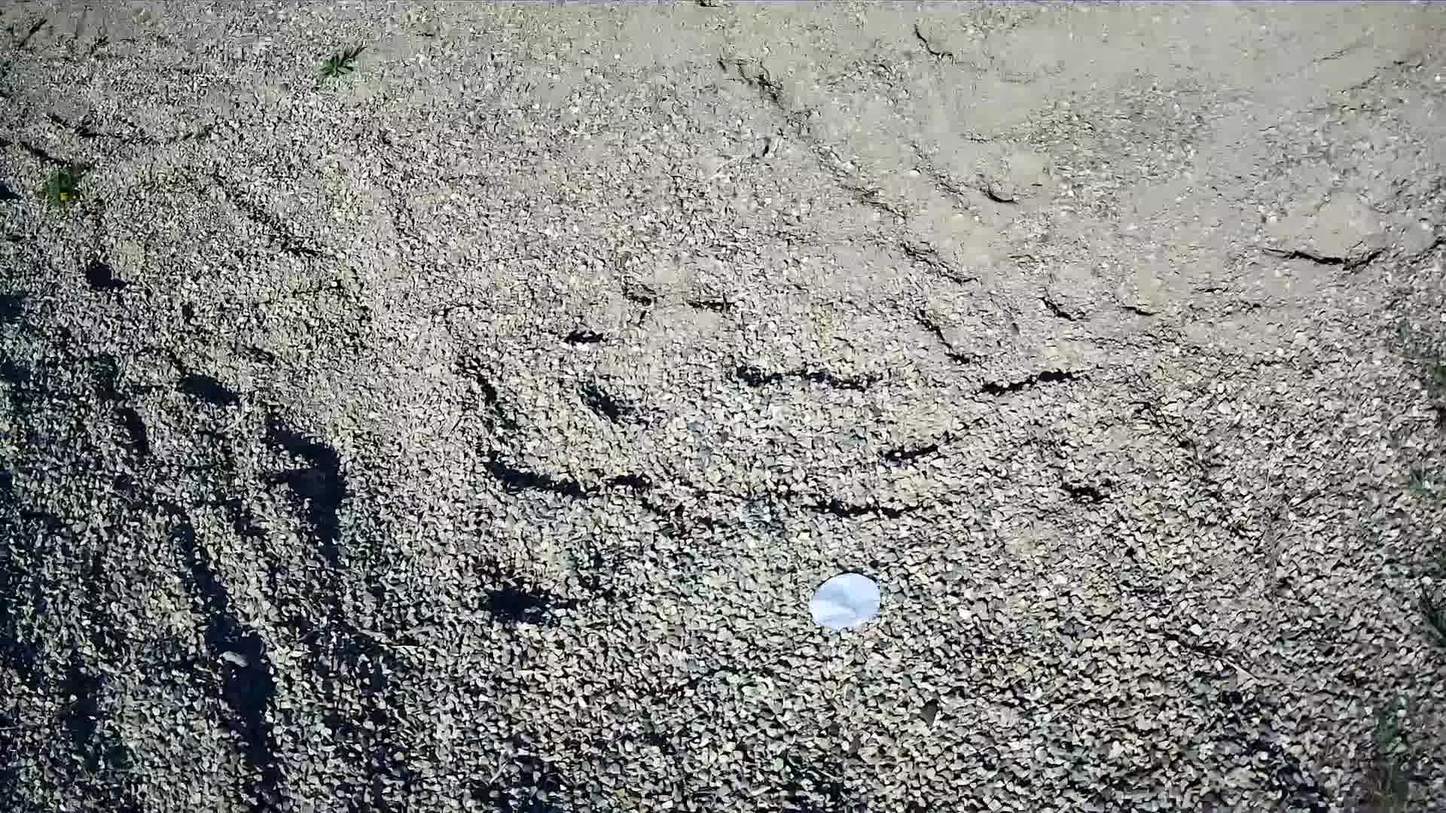Target: (809, 575, 881, 631)
